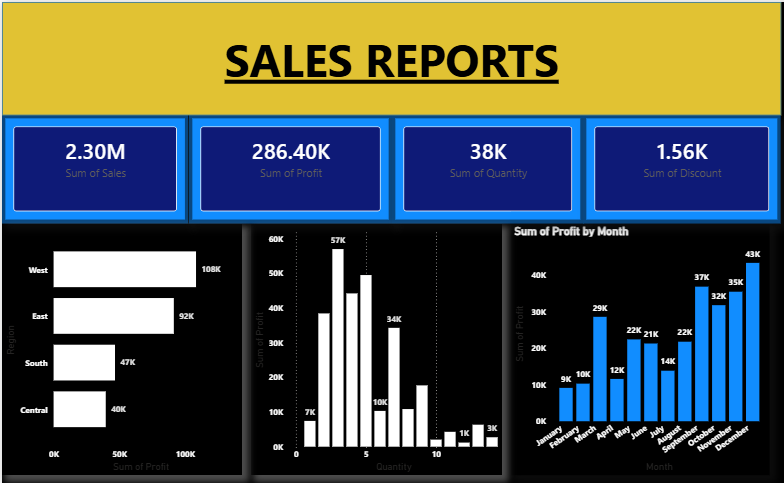

Layout of this report page (visuals, bound fields, positions):
{"tool":"powerbi","page":{"name":"Page 1","canvas":[1280,720],"ordinal":0},"visuals":[{"type":"columnChart","fields":{"Y":["Sum(Sample - Superstore.Profit)"],"Category":["Sample - Superstore.Order Date.Variation.Date Hierarchy.Month"]},"box":[760,330.8,386.2,375.4],"z":1},{"type":"cardVisual","fields":{"Data":["Sum(Sample - Superstore.Sales)"]},"box":[0,169.2,278.5,161.5],"z":3},{"type":"cardVisual","fields":{"Data":["Sum(Sample - Superstore.Profit)"]},"box":[278.5,169.2,303.1,161.5],"z":4},{"type":"cardVisual","fields":{"Data":["Sum(Sample - Superstore.Quantity)"]},"box":[581.5,169.2,286.2,161.5],"z":5},{"type":"cardVisual","fields":{"Data":["Sum(Sample - Superstore.Discount)"]},"box":[867.7,169.2,295.4,161.5],"z":6},{"type":"barChart","fields":{"Category":["Sample - Superstore.Region"],"Y":["Sum(Sample - Superstore.Profit)"]},"box":[0,330.8,358.5,375.4],"z":7},{"type":"columnChart","fields":{"Y":["Sum(Sample - Superstore.Profit)"],"Category":["Sample - Superstore.Quantity"]},"box":[372.3,330.8,373.8,375.4],"z":8},{"type":"shape","box":[0,0,1163.1,169.2],"z":9}]}

Visuals, with their boxes on the page's 1280x720 design canvas (x1, y1, x2, y2). These are canvas units, not pixel positions in the 784x483 screenshot, which may show the page scaled, cropped or inside an application window:
columnChart - Sum(Sample - Superstore.Profit) x Sample - Superstore.Order Date.Variation.Date Hierarchy.Month: select_region(760, 331, 1146, 706)
cardVisual - Sum(Sample - Superstore.Sales): select_region(0, 169, 278, 331)
cardVisual - Sum(Sample - Superstore.Profit): select_region(278, 169, 582, 331)
cardVisual - Sum(Sample - Superstore.Quantity): select_region(582, 169, 868, 331)
cardVisual - Sum(Sample - Superstore.Discount): select_region(868, 169, 1163, 331)
barChart - Sample - Superstore.Region x Sum(Sample - Superstore.Profit): select_region(0, 331, 358, 706)
columnChart - Sum(Sample - Superstore.Profit) x Sample - Superstore.Quantity: select_region(372, 331, 746, 706)
shape: select_region(0, 0, 1163, 169)
